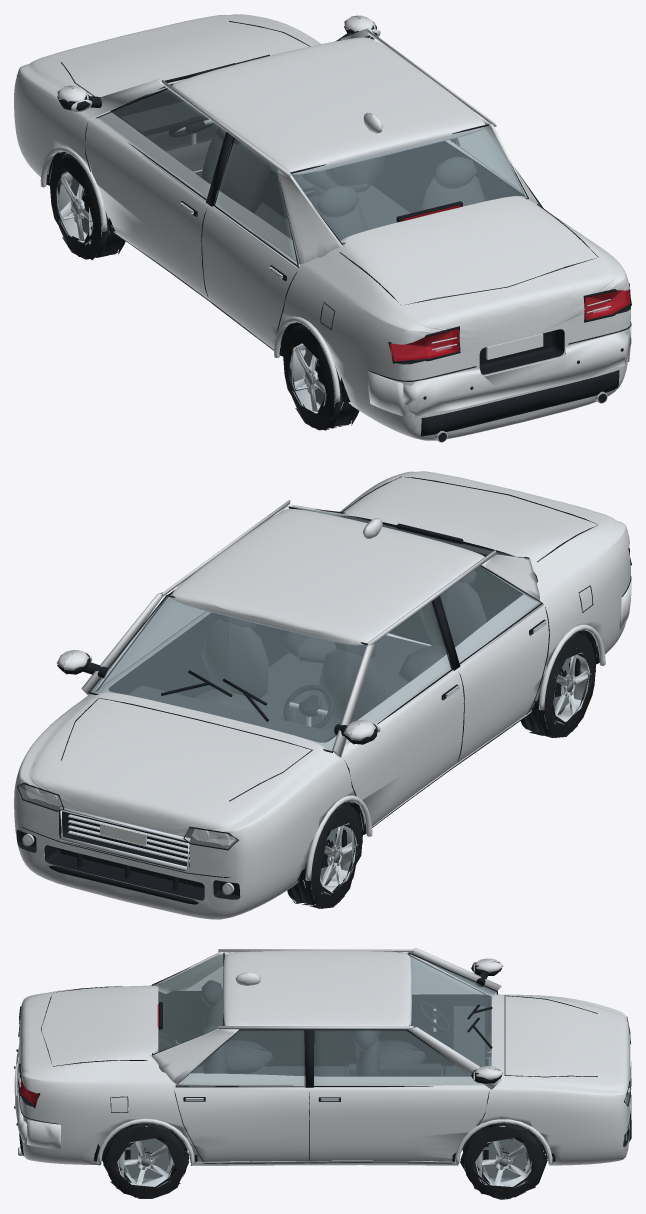
Rendered from sedan.glb.
The picture shows the model from 3 angles, top to bottom: view 1: azimuth 30°, elevation 25°; view 2: azimuth 150°, elevation 25°; view 3: azimuth 270°, elevation 25°; orthographic projection. The views are drawn at different scales.
Visible parts, largest first — view 1: innerscene-sedan-selective; view 2: innerscene-sedan-selective; view 3: innerscene-sedan-selective.
Part boxes in pixels (<box>): innerscene-sedan-selective: <box>14,14,631,442</box>; innerscene-sedan-selective: <box>14,471,631,919</box>; innerscene-sedan-selective: <box>14,948,631,1199</box>.
Size of the model in its own units: 2.19 by 1.56 by 4.84.
10 materials, 10 textured.
